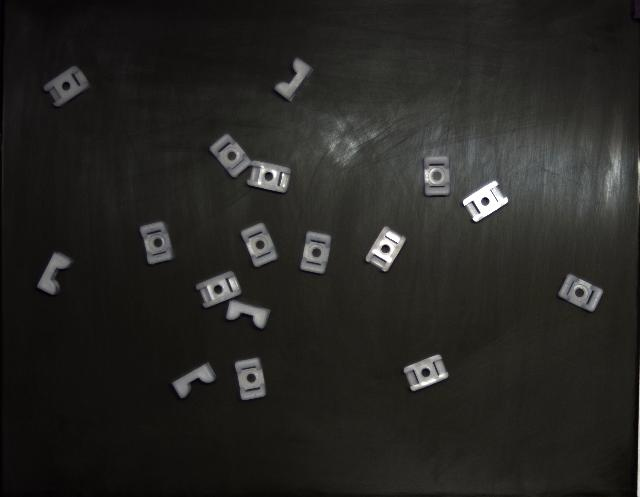first_side: (210, 134, 251, 178), (558, 274, 604, 312), (241, 224, 278, 268), (140, 222, 174, 265), (300, 231, 331, 275), (235, 358, 266, 401), (424, 156, 450, 196)
second_side: (44, 66, 90, 108), (462, 181, 508, 222), (365, 228, 405, 272), (196, 271, 241, 309), (404, 355, 449, 391), (248, 161, 291, 194)
third_side: (274, 58, 312, 101), (172, 362, 216, 399), (38, 253, 74, 295), (226, 300, 270, 329)
